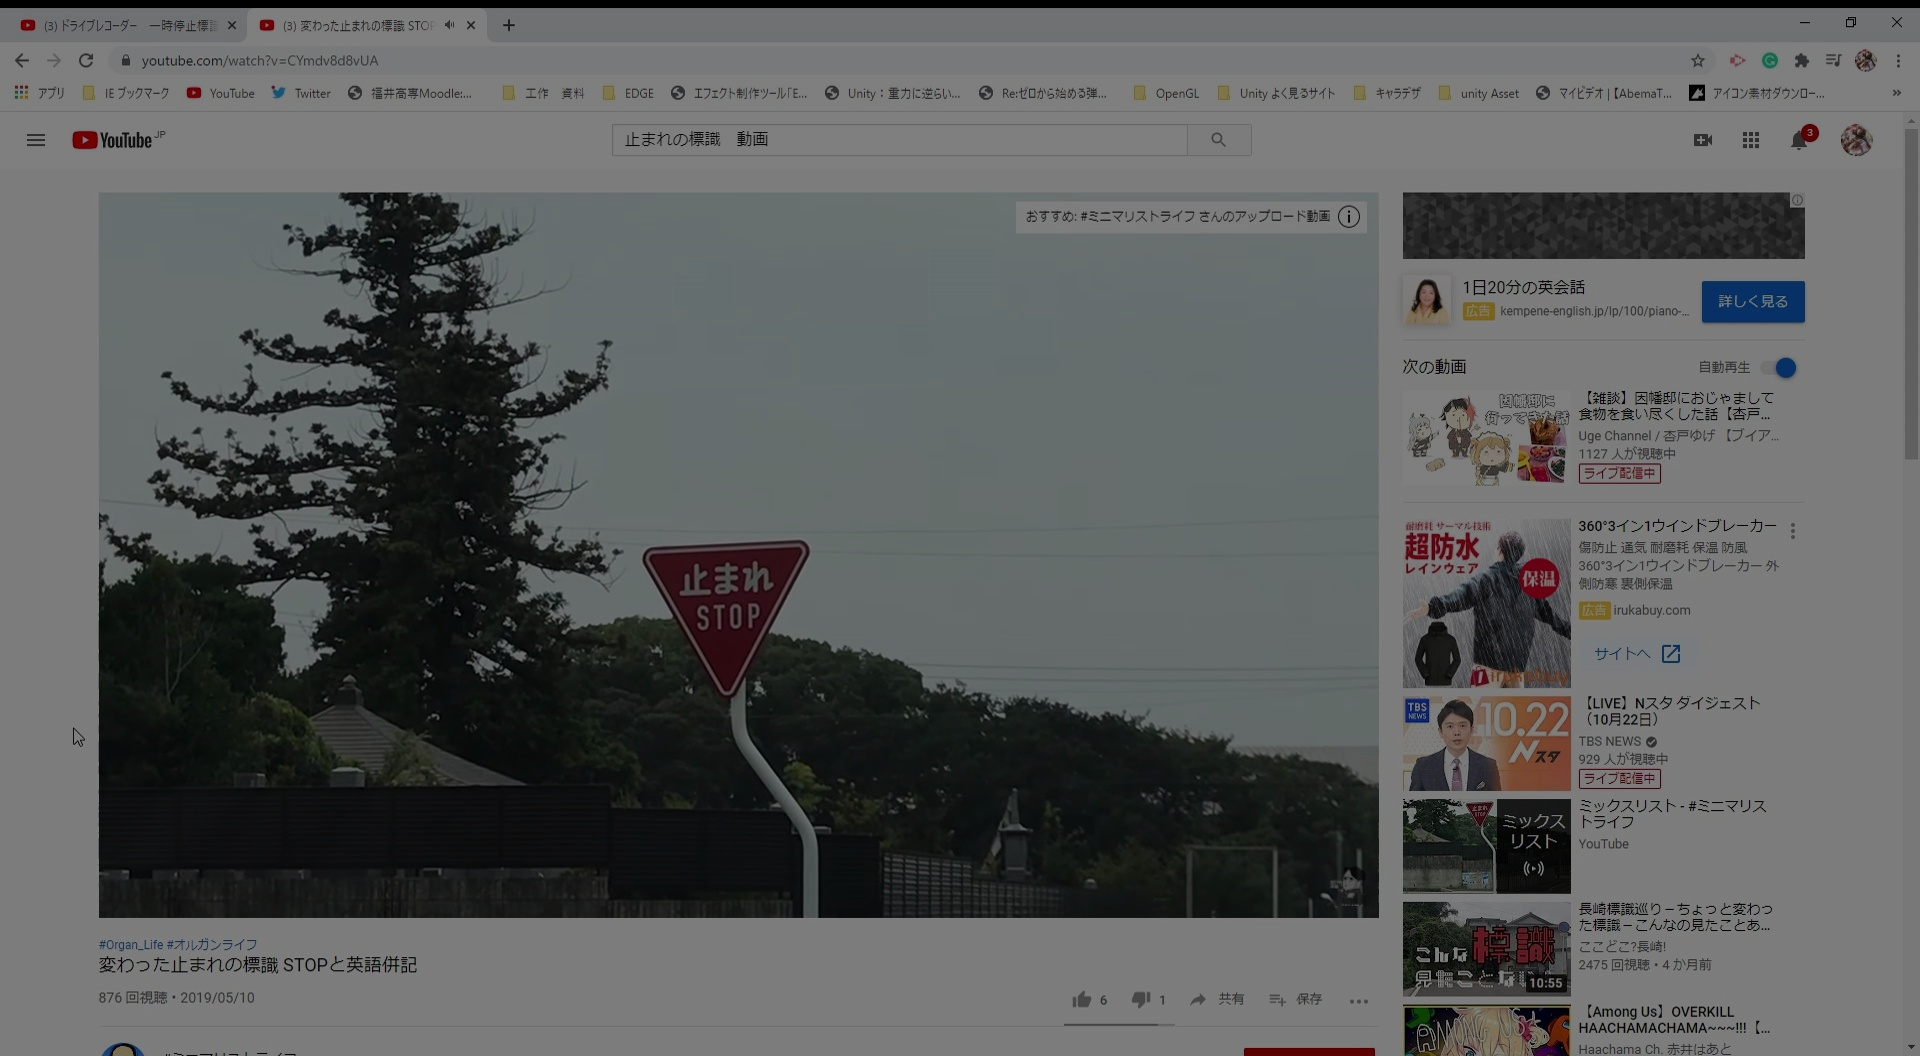Regulatory_sign_triangle: (630, 529, 832, 715)
